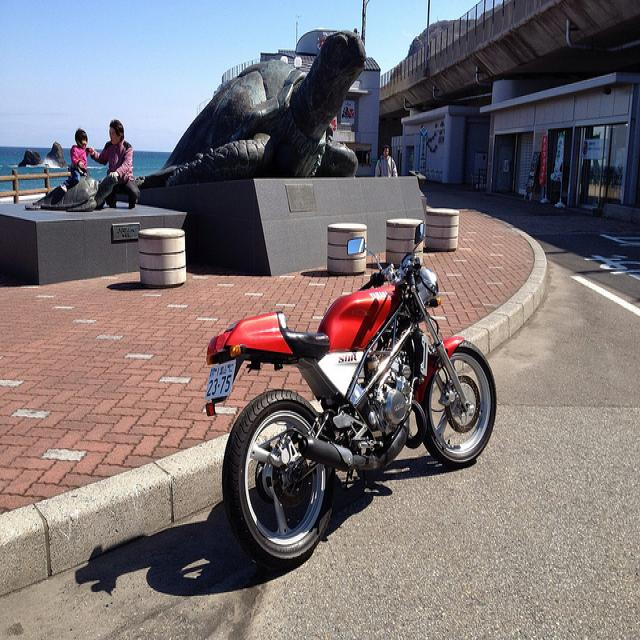motor: (204, 220, 498, 570)
